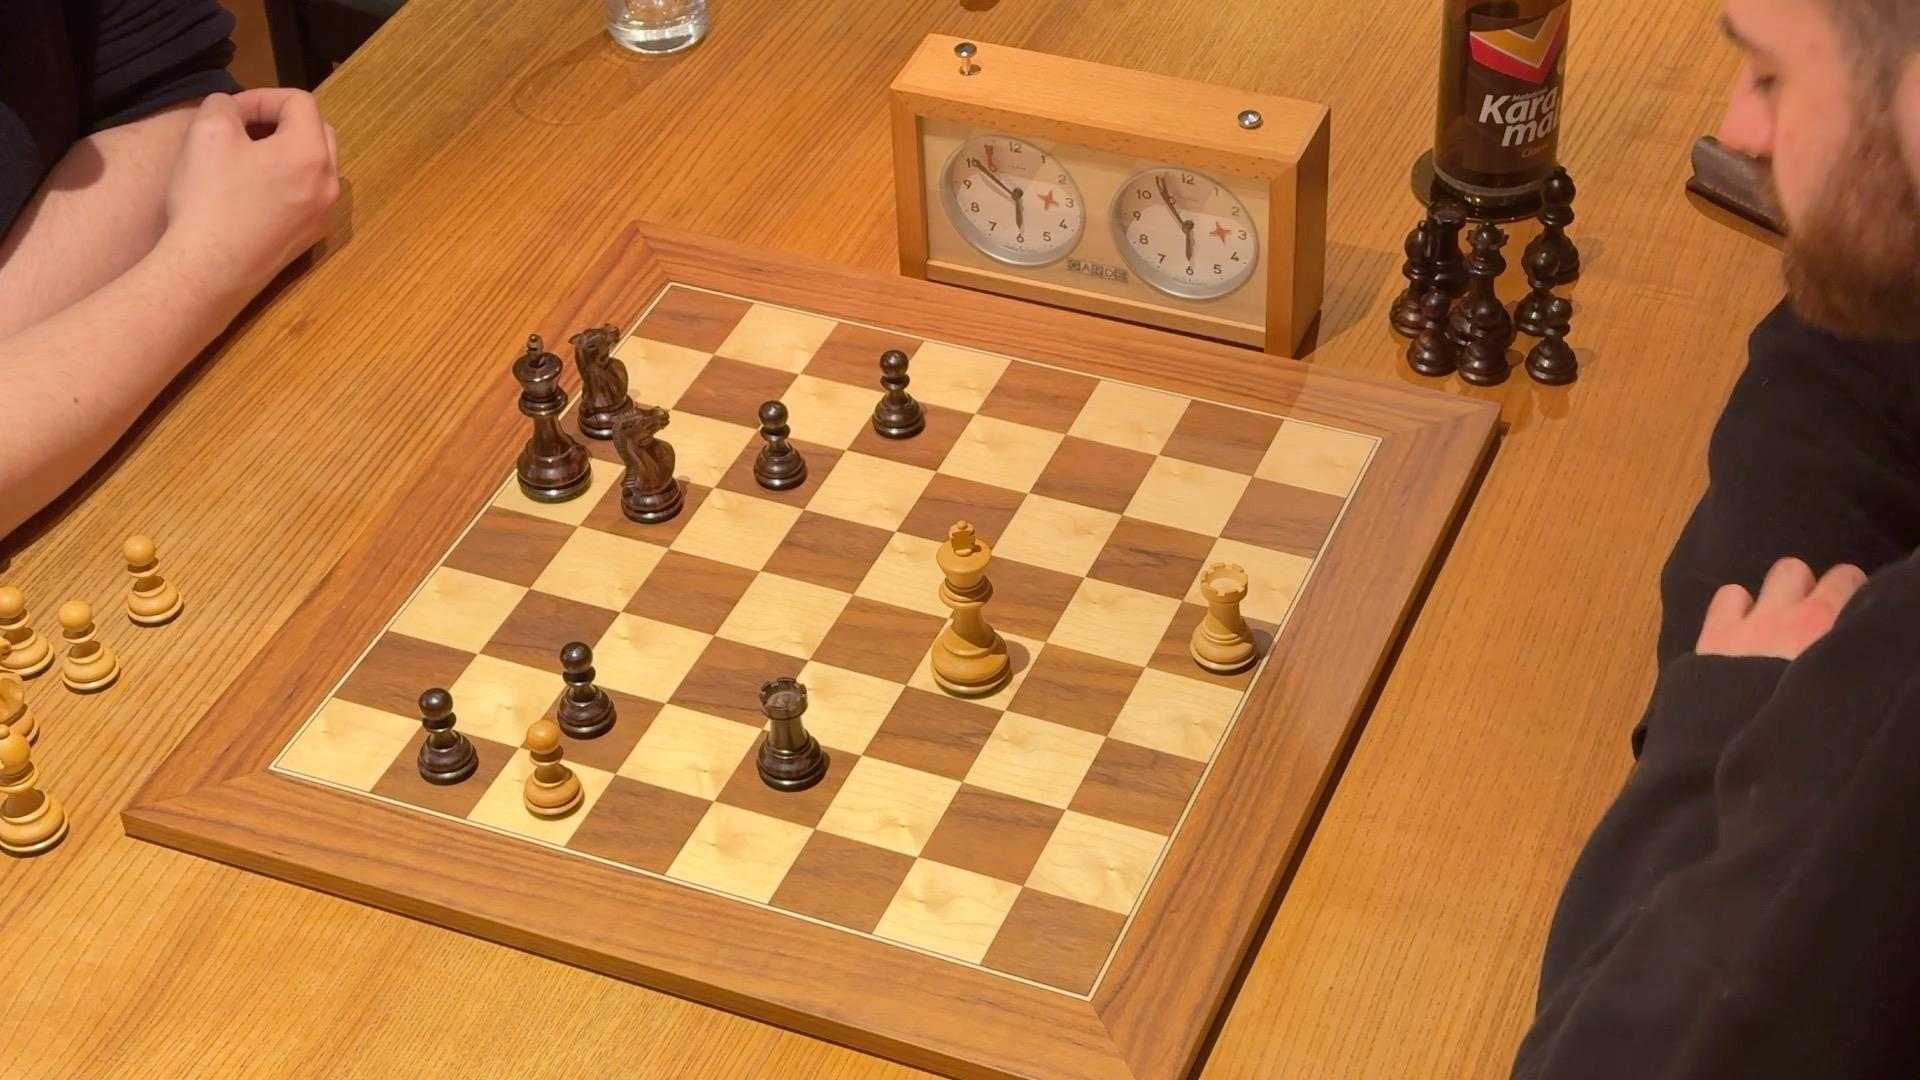Black King: (502, 330, 597, 513)
Black Knight: (599, 400, 698, 533), (568, 320, 645, 444)
Black Pawn: (741, 396, 812, 505), (409, 684, 483, 789), (858, 342, 927, 452), (549, 636, 618, 742)
Black Rook: (748, 670, 836, 796)
White King: (920, 516, 1019, 703)
White Pawn: (510, 715, 589, 829)
White Rook: (1182, 554, 1273, 686)
